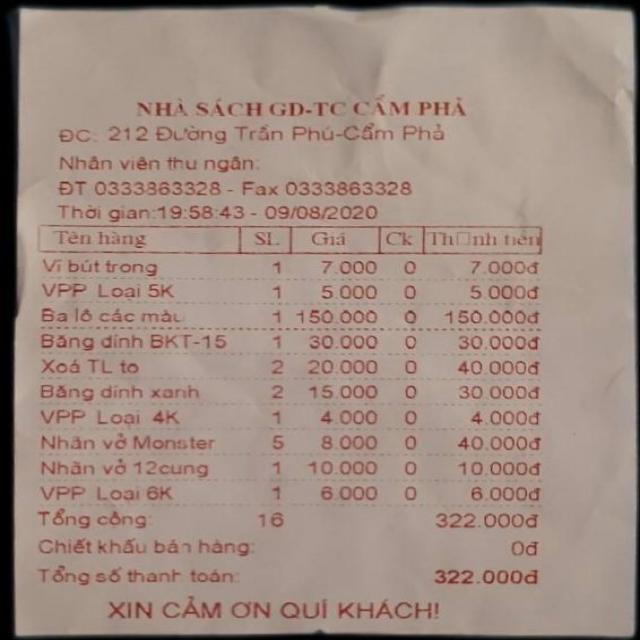Date: (262, 199, 396, 225)
Store_Name: (119, 80, 475, 123)
Total_Amount: (15, 562, 555, 593)
